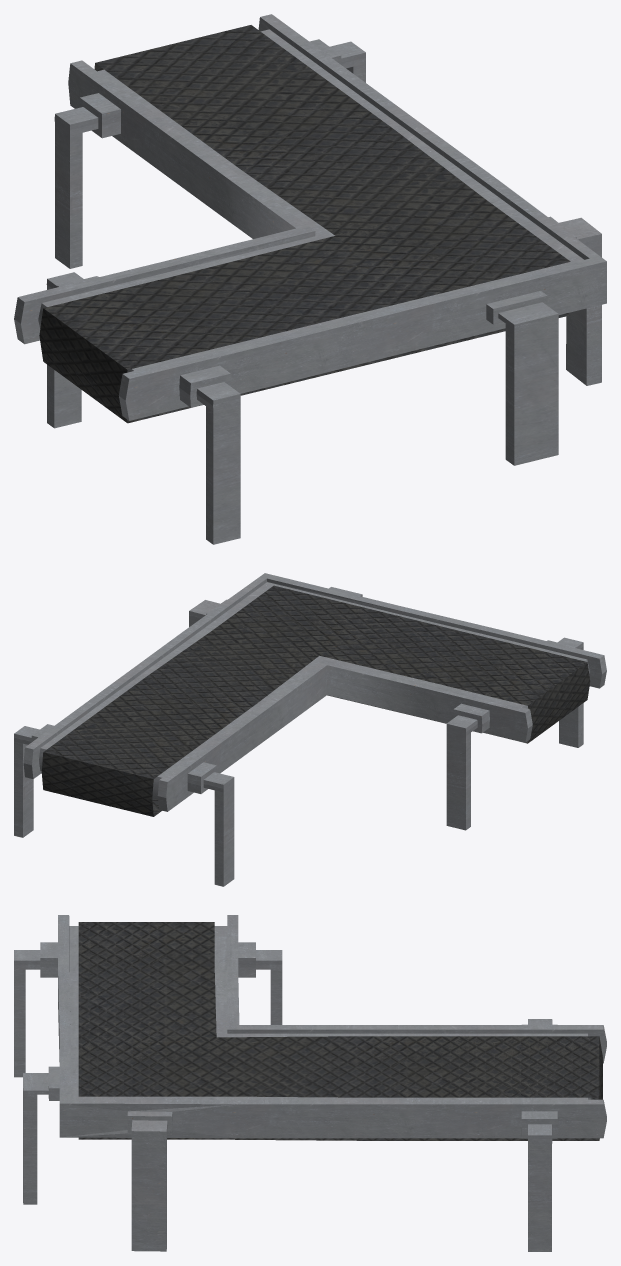
File: conveyer_corner.FBX
3 views of the same model, one above another, from view 1: azimuth 30°, elevation 25°; view 2: azimuth 150°, elevation 25°; view 3: azimuth 270°, elevation 25° (orthographic). The views are drawn at different scales.
Visible parts, largest first — view 1: conveyer_corner; view 2: conveyer_corner; view 3: conveyer_corner.
Boxes of the visible parts, x1,y1,x2,y2 form: conveyer_corner: [14, 14, 606, 544]; conveyer_corner: [14, 573, 606, 886]; conveyer_corner: [14, 915, 606, 1251].
Size of the model in its own units: 132 by 38.78 by 158.
Materials: 2 (2 with a texture image).
